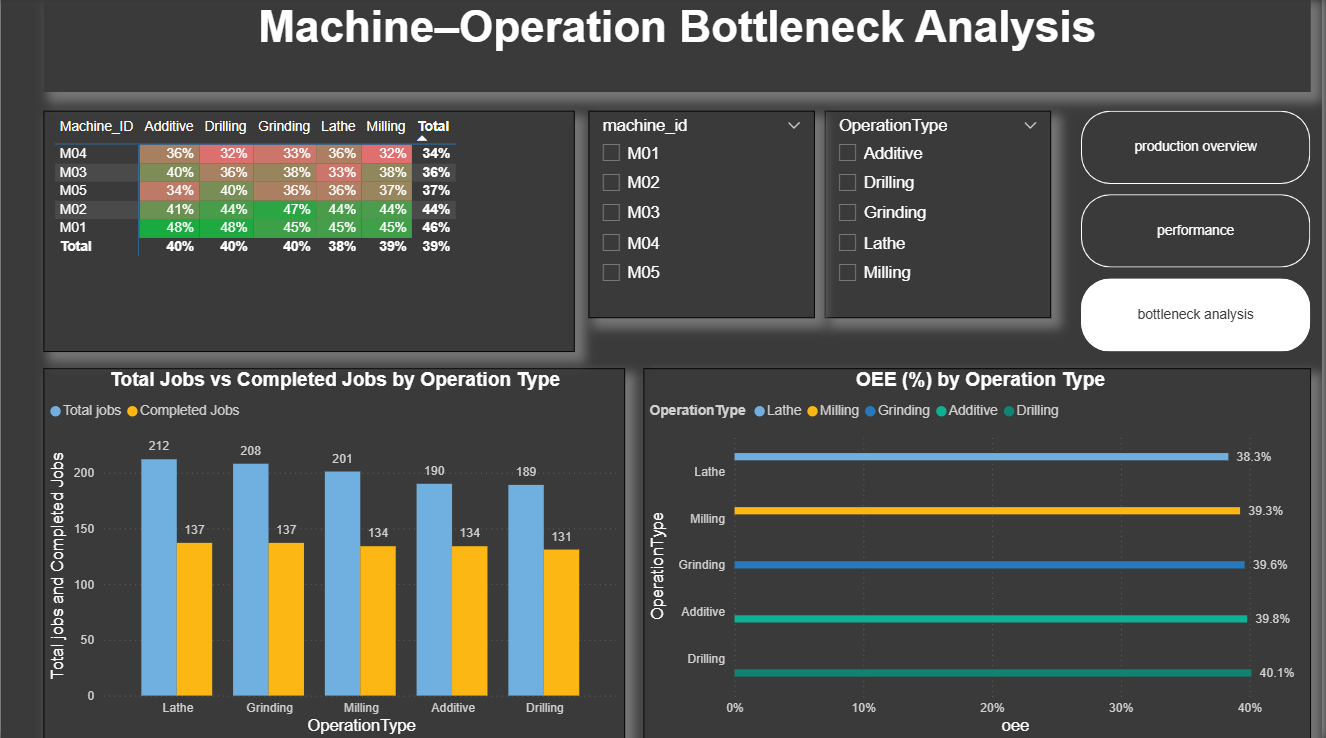

What the dashboard file says about the page in this screenshot:
{"tool":"powerbi","page":{"name":"bottleneck analysis","canvas":[1280,720],"ordinal":2},"visuals":[{"type":"clusteredColumnChart","title":"Total Jobs vs Completed Jobs by Operation Type","fields":{"Category":["mdb production_re.OperationType"],"Y":["CountNonNull(mdb production_re.JobStatus)","mdb production_re.Count of JobStatus for Completed"]},"box":[41.7,359.5,563.2,360.7],"z":0},{"type":"clusteredBarChart","title":"OEE (%) by Operation Type","fields":{"Category":["mdb production_re.OperationType"],"Y":["mdb production_re.oee","select"],"Series":["mdb production_re.OperationType"]},"box":[622.2,359.5,646.4,360.7],"z":1000},{"type":"pivotTable","fields":{"Rows":["mdb production_re.Machine_ID"],"Columns":["mdb production_re.OperationType"],"Values":["mdb production_re.oee"]},"box":[41,110.2,514.5,233.6],"z":2000},{"type":"slicer","fields":{"Values":["mdb production_re.OperationType"]},"box":[797.7,110.2,219.1,200.9],"z":3000},{"type":"textbox","box":[41.2,0,1227.4,92],"z":4000},{"type":"slicer","fields":{"Values":["mdb downtime_by_machine.machine_id"]},"box":[568.9,110.2,219.1,200.9],"z":5000},{"type":"pageNavigator","box":[1045.9,110.2,222.7,233.6],"z":7000}]}

Visuals, with their boxes in screenshot pixels (x1, y1, x2, y2), scaled from the page's 1280x720 canvas onto the 1326x738 screenshot:
"Total Jobs vs Completed Jobs by Operation Type" clusteredColumnChart: [left=43, top=368, right=627, bottom=737]
"OEE (%) by Operation Type" clusteredBarChart: [left=645, top=368, right=1314, bottom=737]
pivotTable - mdb production_re.Machine_ID x mdb production_re.OperationType: [left=42, top=113, right=575, bottom=352]
slicer - mdb production_re.OperationType: [left=826, top=113, right=1053, bottom=319]
textbox: [left=43, top=0, right=1314, bottom=94]
slicer - mdb downtime_by_machine.machine_id: [left=589, top=113, right=816, bottom=319]
pageNavigator: [left=1083, top=113, right=1314, bottom=352]
